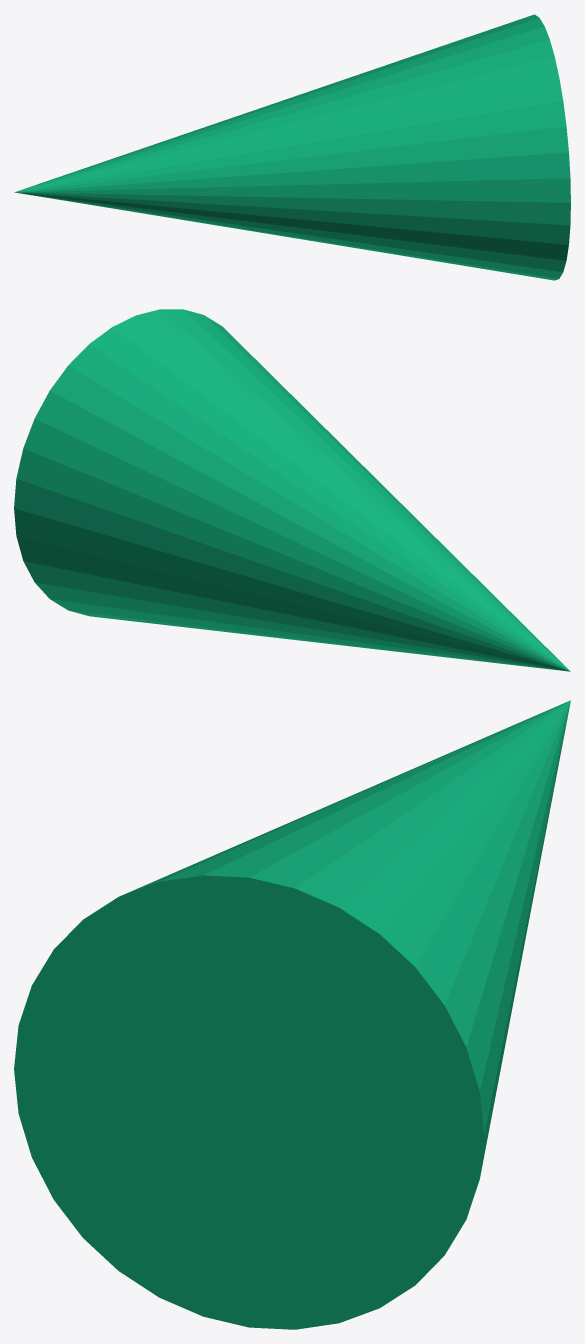
File: 13_solid angle less.glb
3 renders of one model, top to bottom at view 1: azimuth 30°, elevation 25°; view 2: azimuth 150°, elevation 25°; view 3: azimuth 270°, elevation 25°, orthographic. The views are drawn at different scales.
Visible parts, largest first — view 1: Cone; view 2: Cone; view 3: Cone.
Part boxes in pixels (x1=…): Cone: x1=14, y1=14, x2=570, y2=280; Cone: x1=14, y1=309, x2=570, y2=671; Cone: x1=14, y1=700, x2=570, y2=1329.
Bounding box in the file's own units: 2.05 × 0.9879 × 1.11.
